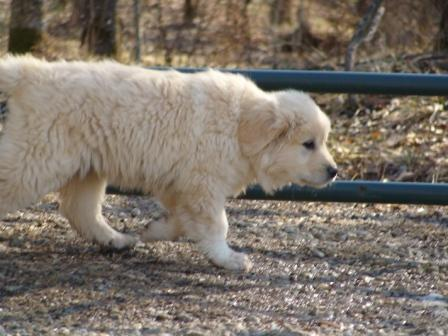Great_Pyrenees: (0, 50, 339, 273)
